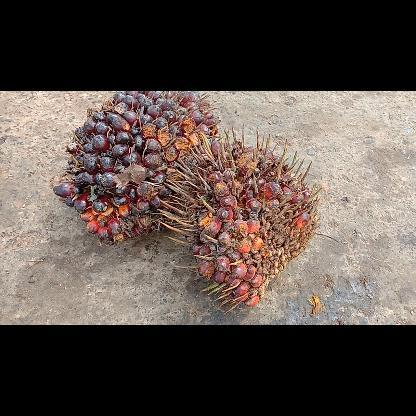Kurang masak: (53, 91, 219, 245)
TBS masak: (157, 125, 319, 313)
